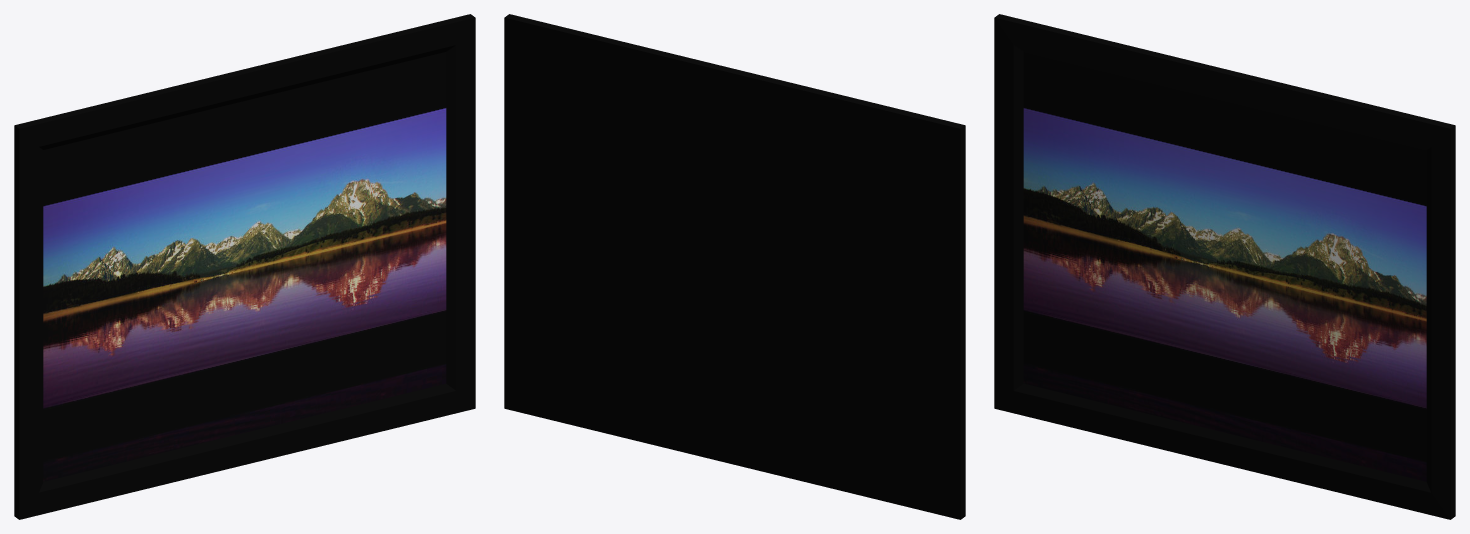
Rendered from RoomWallPainting04.FBX.
The picture shows the model from 3 angles, left to right: view 1: azimuth 30°, elevation 25°; view 2: azimuth 150°, elevation 25°; view 3: azimuth 330°, elevation 25°; orthographic projection.
Parts seen in each view (by area): view 1: Painting_03; view 2: Painting_03; view 3: Painting_03.
Boxes of the visible parts, x1,y1,x2,y2 form: Painting_03: (14, 14, 475, 519); Painting_03: (504, 14, 965, 519); Painting_03: (994, 14, 1455, 519).
Bounding box in the file's own units: 1.69 × 1.38 × 0.0325.
